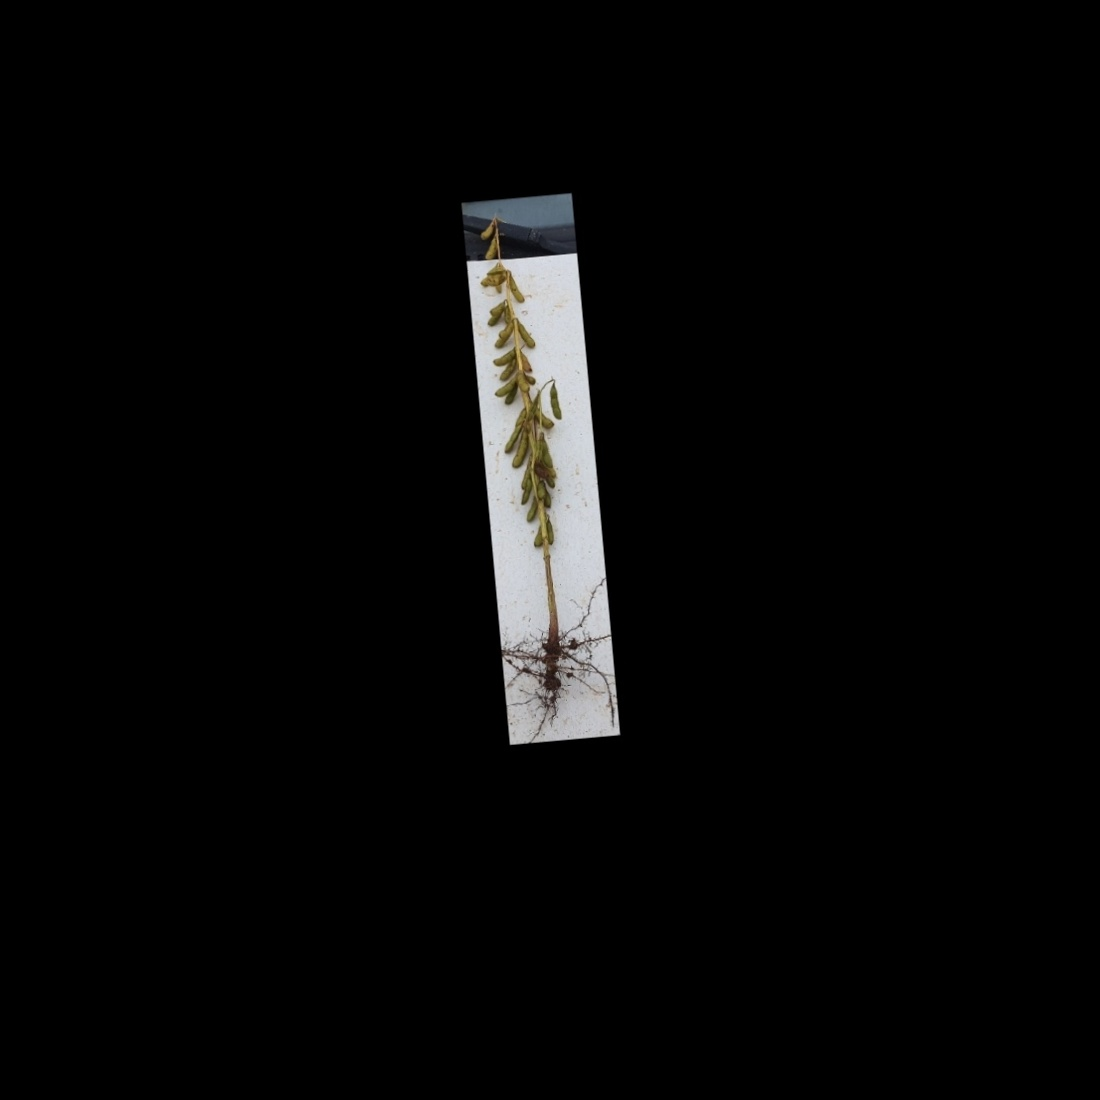pod: (509, 431, 530, 471), (545, 381, 564, 421), (516, 316, 538, 351), (506, 269, 527, 304), (499, 357, 519, 381), (524, 493, 539, 523), (483, 234, 499, 261), (515, 370, 531, 394), (532, 524, 546, 551), (546, 518, 558, 546)
soy: (468, 202, 604, 716)
